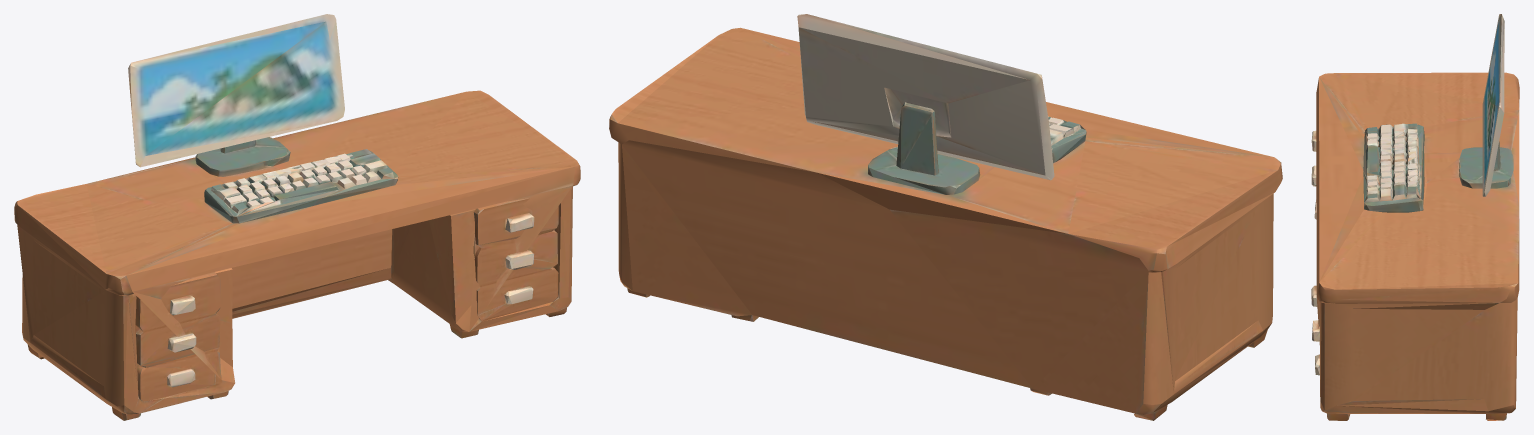
Rendered from office-desk.glb.
The picture shows the model from 3 angles, left to right: view 1: azimuth 30°, elevation 25°; view 2: azimuth 150°, elevation 25°; view 3: azimuth 270°, elevation 25°; orthographic projection. The views are drawn at different scales.
Visible parts, largest first — view 1: office-desk-fit; view 2: office-desk-fit; view 3: office-desk-fit.
Boxes of the visible parts, bbox=[...] form: office-desk-fit: bbox=[14, 14, 580, 420]; office-desk-fit: bbox=[609, 14, 1282, 420]; office-desk-fit: bbox=[1311, 14, 1519, 420].
Bounding box in the file's own units: 2 × 1.09 × 0.8157.
1 material, 1 textured.
